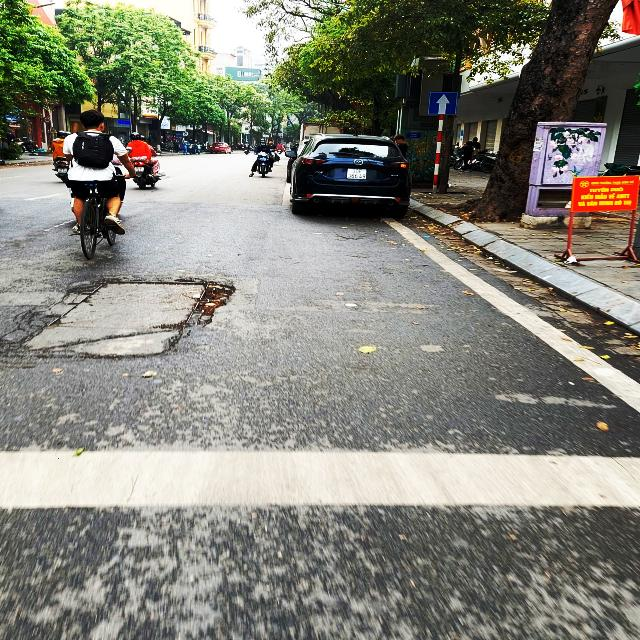license_plate: (346, 168, 370, 182)
